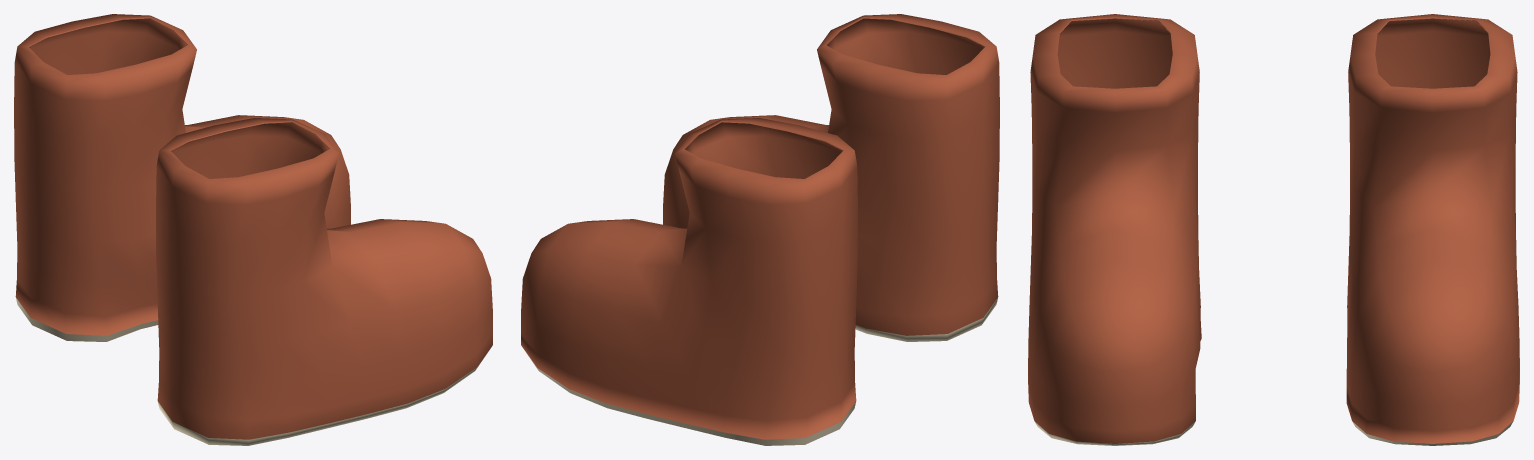
The model's file is Cartoon Boots.fbx.
3 renders of one model, left to right at view 1: azimuth 30°, elevation 25°; view 2: azimuth 150°, elevation 25°; view 3: azimuth 270°, elevation 25°, orthographic. The views are drawn at different scales.
Parts seen in each view (by area): view 1: Right Boots, Left Boots; view 2: Left Boots, Right Boots; view 3: Left Boots, Right Boots.
Part boxes in pixels (x1,y1,x2,y2): Right Boots: [156, 118, 492, 445]; Left Boots: [14, 14, 350, 341]; Left Boots: [521, 118, 857, 445]; Right Boots: [663, 14, 999, 341]; Left Boots: [1346, 14, 1519, 445]; Right Boots: [1028, 14, 1201, 445].
Size of the model in its own units: 228 by 182 by 277.
